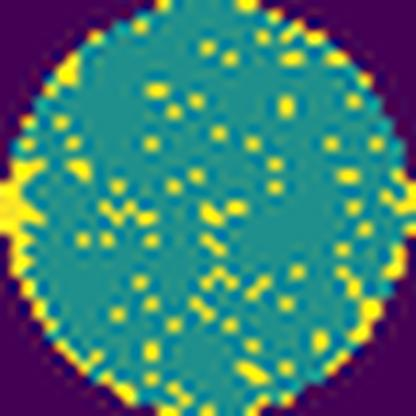Edge-Loc: (0, 152, 66, 335), (383, 167, 416, 214)
